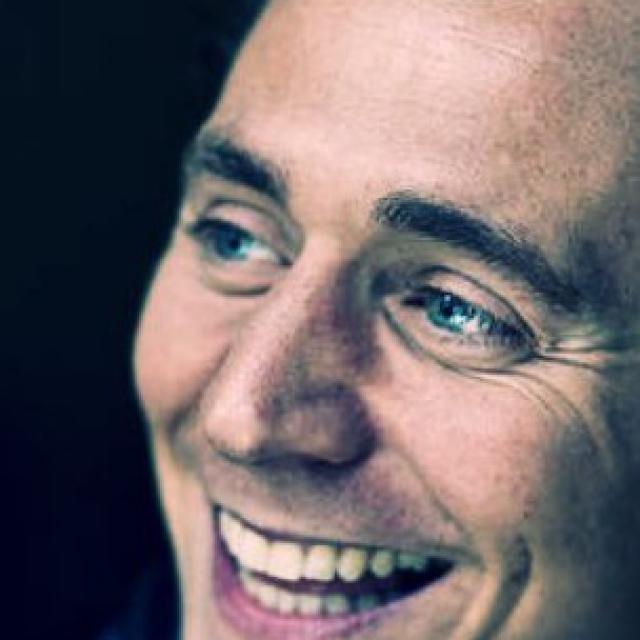Normal: (130, 3, 635, 638)
